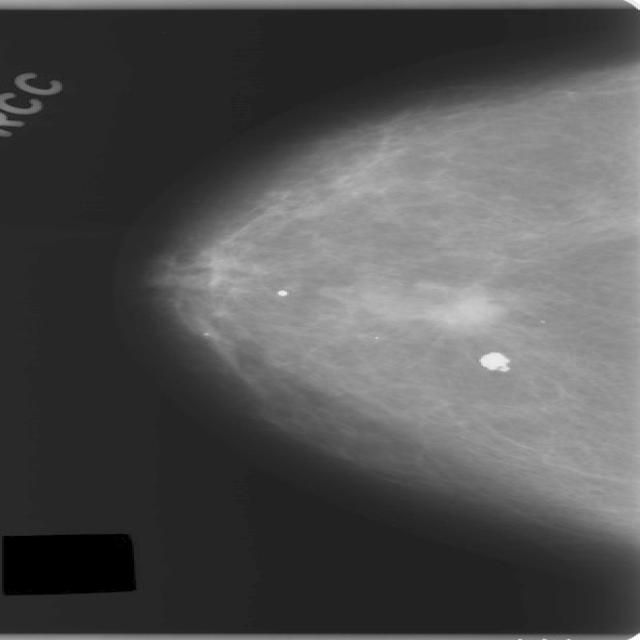tumour: (417, 287, 506, 331)
